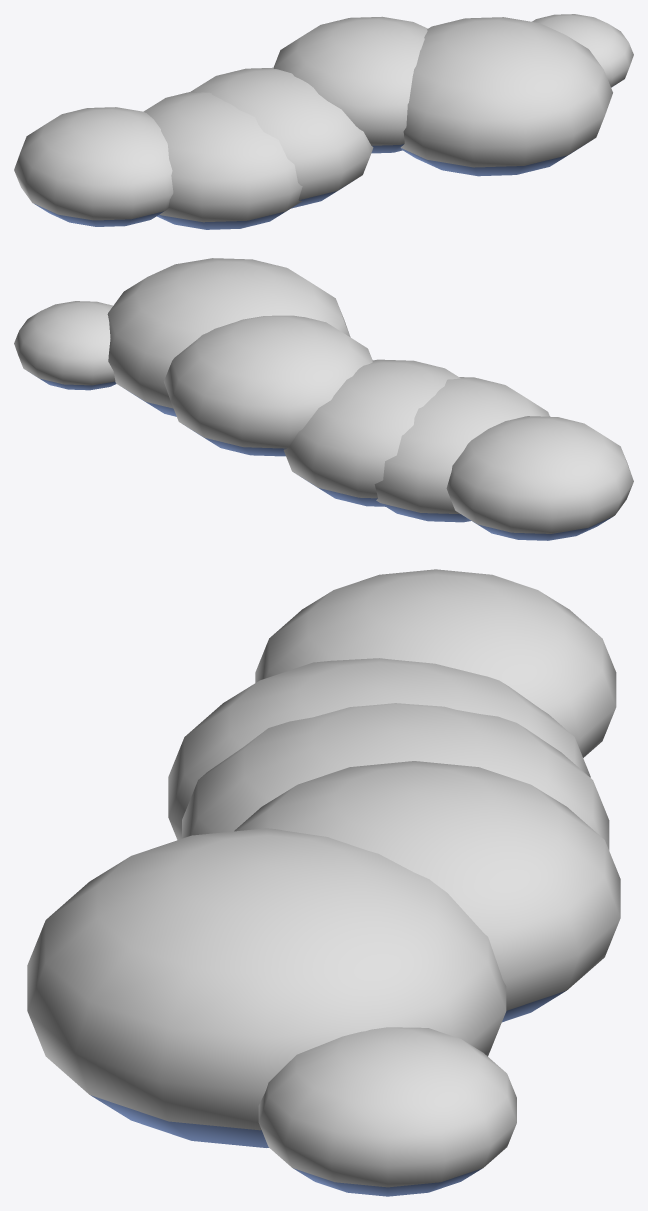
The model's file is SM_Cloud_B.fbx.
3 views of the same model, one above another, from view 1: azimuth 30°, elevation 25°; view 2: azimuth 150°, elevation 25°; view 3: azimuth 270°, elevation 25° (orthographic). The views are drawn at different scales.
Parts seen in each view (by area): view 1: SM_Cloud_B; view 2: SM_Cloud_B; view 3: SM_Cloud_B.
Part boxes in pixels (x1,y1,x2,y2): SM_Cloud_B: (14,14,633,229); SM_Cloud_B: (14,258,633,540); SM_Cloud_B: (27,569,620,1196).
Bounding box in the file's own units: 21.63 × 9.46 × 4.9.
